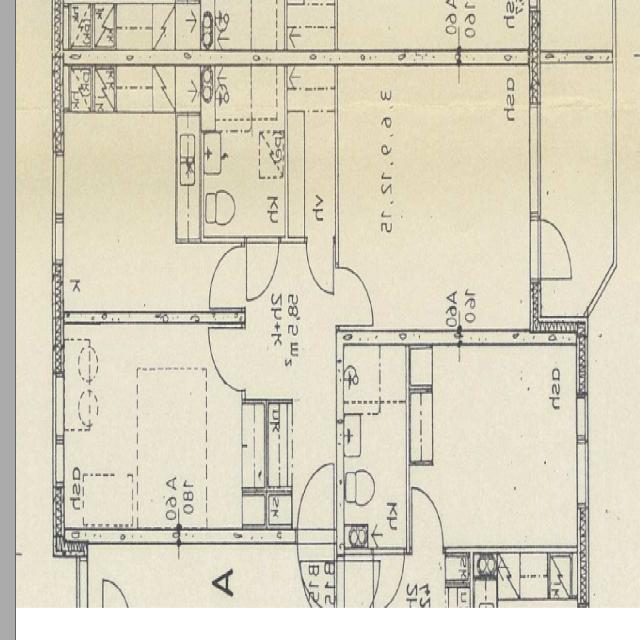door: (297, 530, 335, 614), (297, 459, 335, 543), (530, 219, 574, 280), (208, 328, 245, 390), (209, 246, 245, 308), (248, 237, 279, 301), (337, 266, 371, 324), (306, 237, 334, 293)
